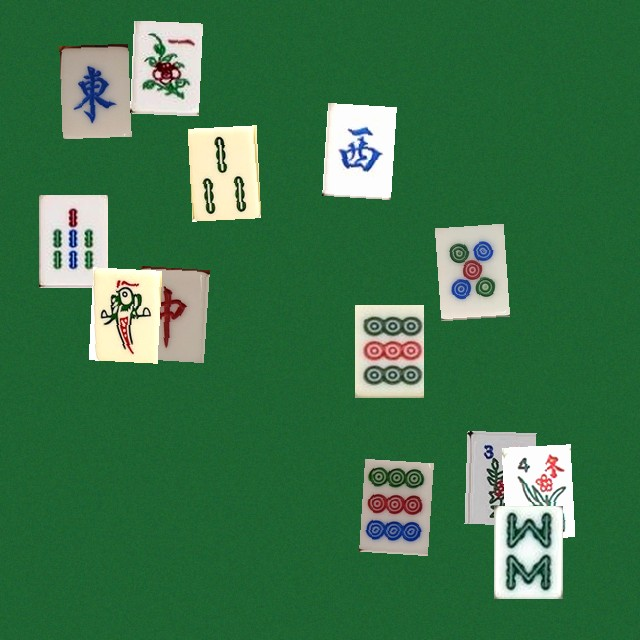tile: (359, 458, 428, 551), (322, 102, 391, 195), (59, 43, 128, 136), (354, 304, 423, 397), (129, 20, 198, 113), (464, 430, 533, 523), (501, 444, 570, 537), (38, 194, 107, 287), (135, 265, 204, 358), (434, 223, 503, 316), (493, 505, 562, 598), (88, 267, 157, 360), (187, 125, 256, 218)
